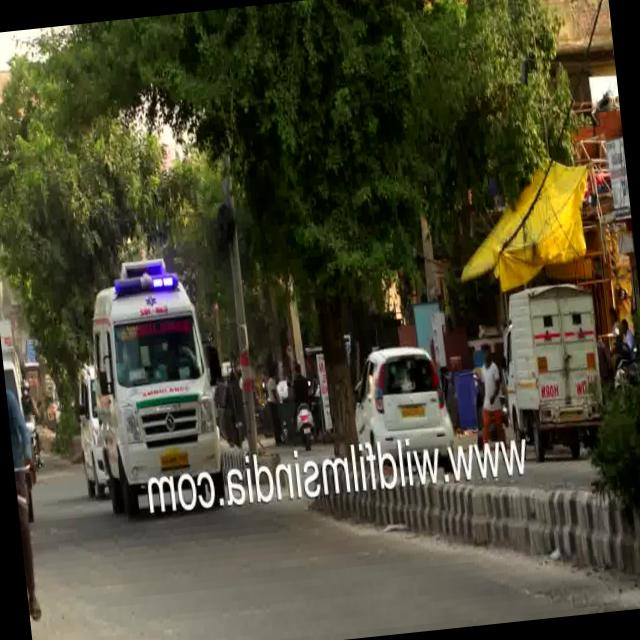ambulance: (81, 242, 223, 494)
